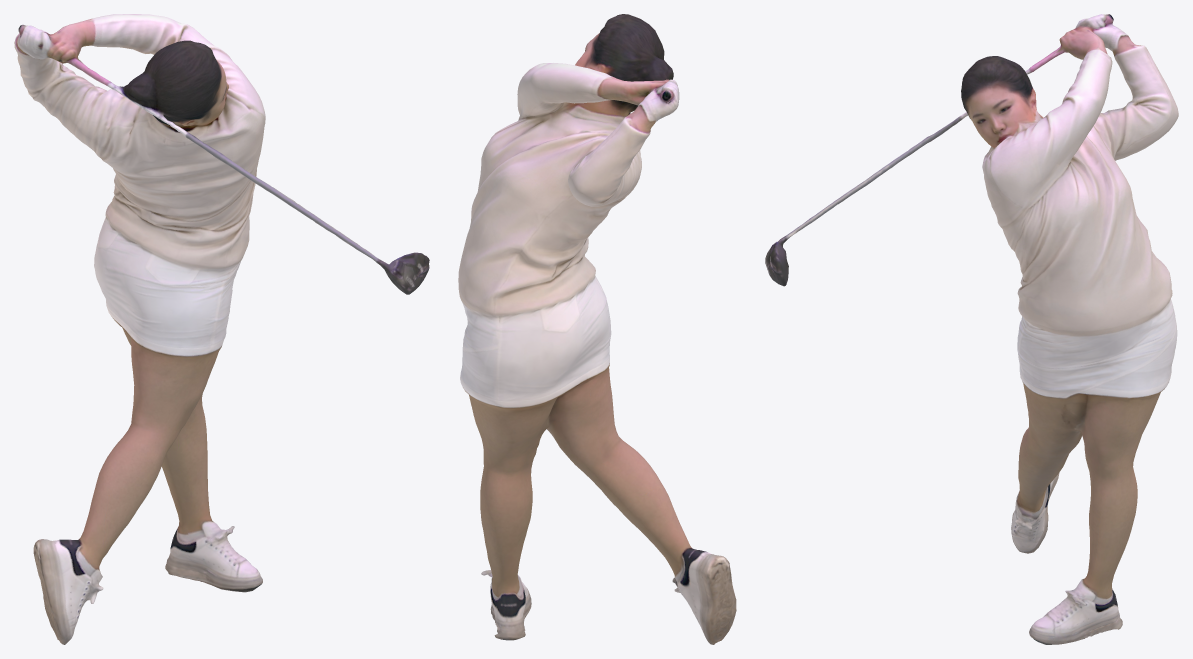
The model's file is nutcracker.glb.
The picture shows the model from 3 angles, left to right: view 1: azimuth 30°, elevation 25°; view 2: azimuth 150°, elevation 25°; view 3: azimuth 270°, elevation 25°; orthographic projection. The views are drawn at different scales.
Parts seen in each view (by area): view 1: Frame_0110.001; view 2: Frame_0110.001; view 3: Frame_0110.001.
Boxes of the visible parts, x1,y1,x2,y2 form: Frame_0110.001: (14, 14, 429, 644); Frame_0110.001: (458, 14, 736, 644); Frame_0110.001: (765, 14, 1178, 644).
Bounding box in the file's own units: 0.7035 × 1.56 × 1.08.
1 material, 1 textured.
